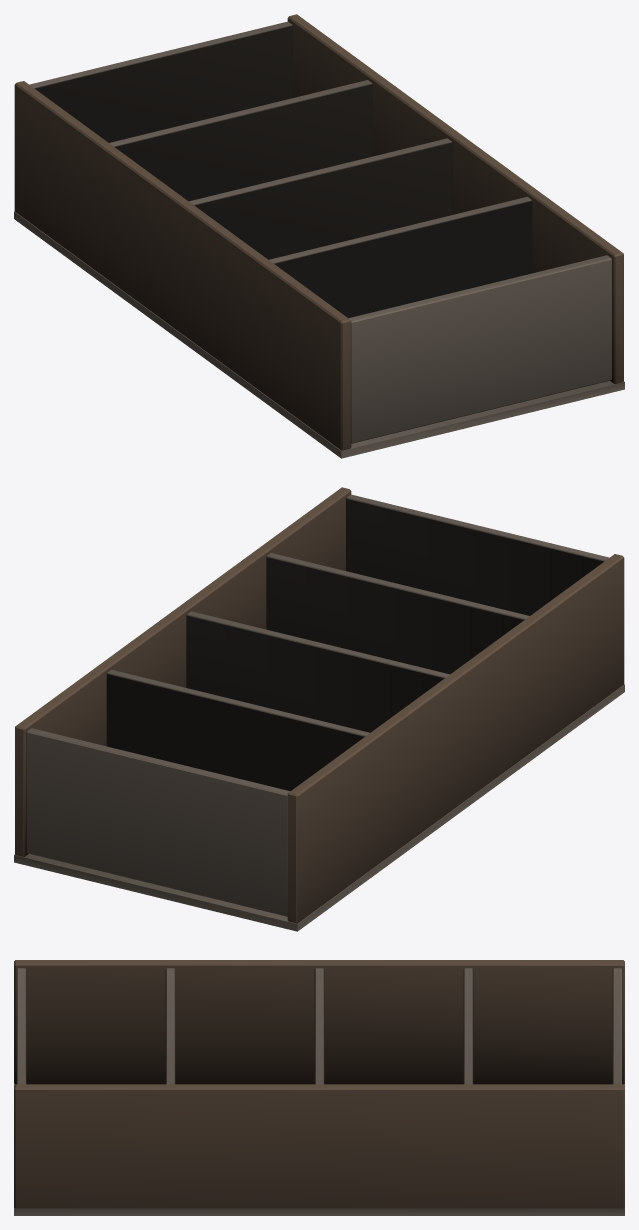
Rendered from prop.shelf_fallen.mo.glb.
3 renders of one model, top to bottom at view 1: azimuth 30°, elevation 25°; view 2: azimuth 150°, elevation 25°; view 3: azimuth 270°, elevation 25°, orthographic. The views are drawn at different scales.
Visible parts, largest first — view 1: LOD0; view 2: LOD0; view 3: LOD0.
Part boxes in pixels (x1,y1,x2,y2): LOD0: [14, 14, 624, 458]; LOD0: [14, 487, 624, 931]; LOD0: [14, 960, 624, 1215].
Size of what is drawn, in the model's own units: 0.8 by 0.368 by 1.6.
